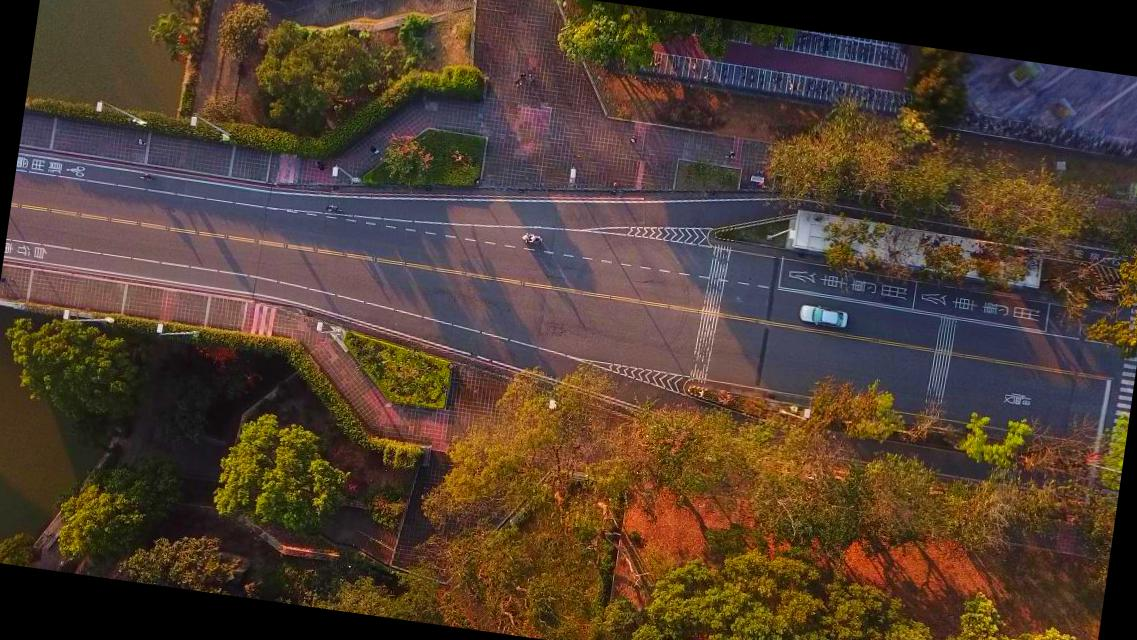vehicle: (798, 302, 848, 330)
